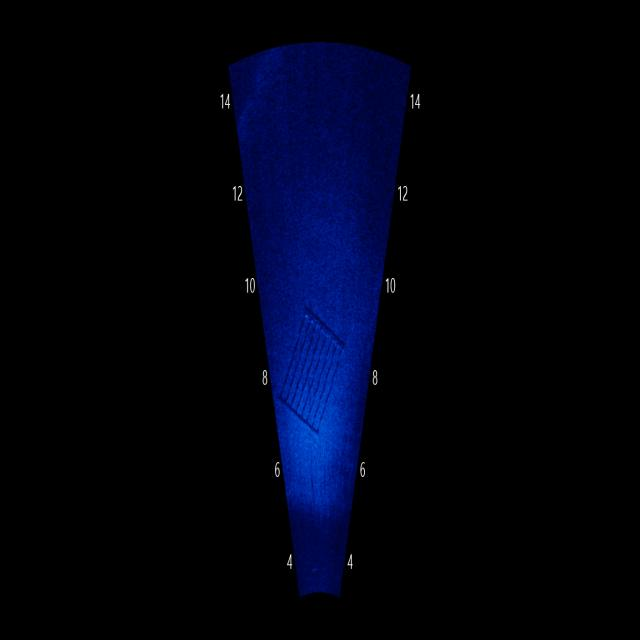square: (271, 281, 350, 444)
